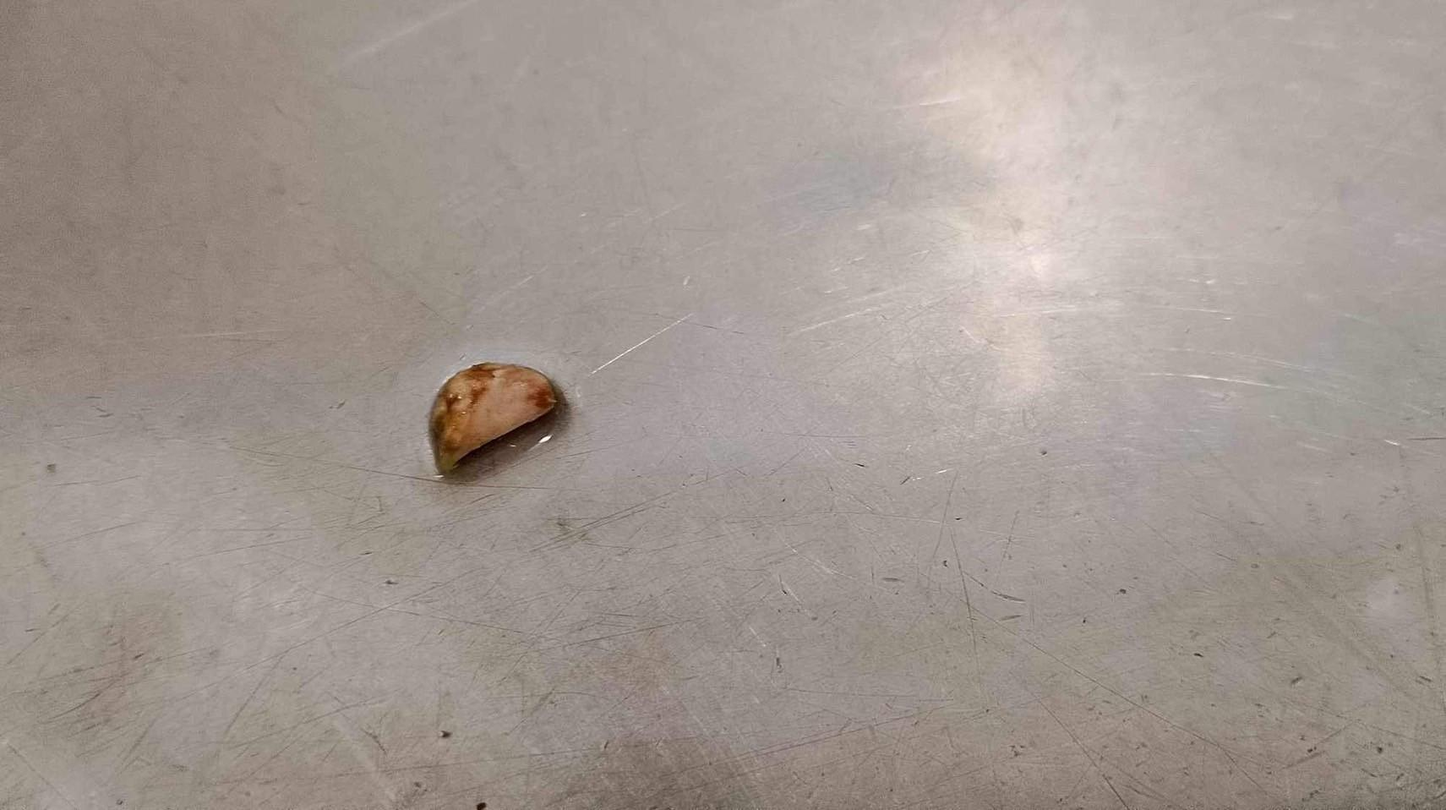Infectious: (427, 360, 558, 475)
Sharps: (570, 304, 701, 394)
